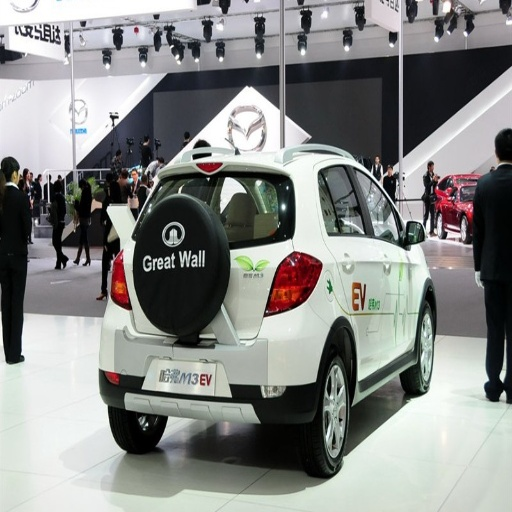back_bumper: (97, 302, 328, 423)
back_right_door: (321, 164, 385, 376)
tailgate: (124, 222, 257, 342)
trunk: (230, 246, 289, 335)
